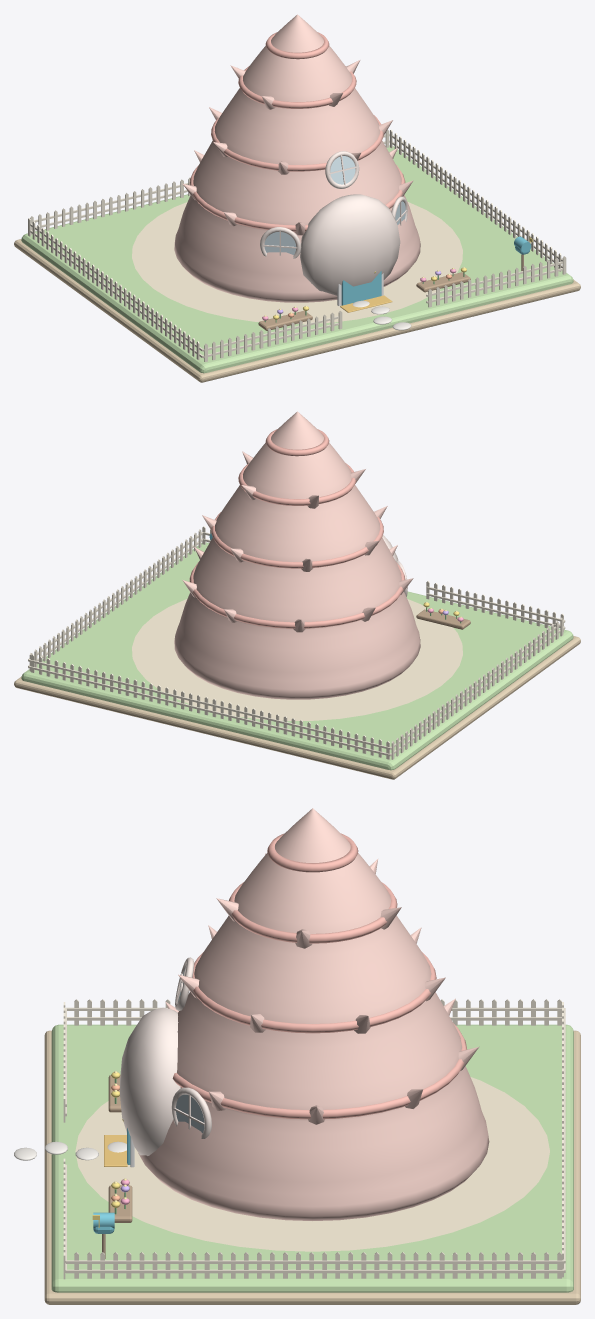
Rendered from building_ocean_L07.glb.
The picture shows the model from 3 angles, top to bottom: view 1: azimuth 30°, elevation 25°; view 2: azimuth 150°, elevation 25°; view 3: azimuth 270°, elevation 25°; orthographic projection. The views are drawn at different scales.
Visible parts, largest first — view 1: ocean_L7; view 2: ocean_L7; view 3: ocean_L7.
Part boxes in pixels (bbox=[...]): ocean_L7: bbox=[14, 14, 580, 382]; ocean_L7: bbox=[14, 411, 580, 779]; ocean_L7: bbox=[14, 808, 580, 1304].
Size of the model in its own units: 26.61 by 16.97 by 23.89.
